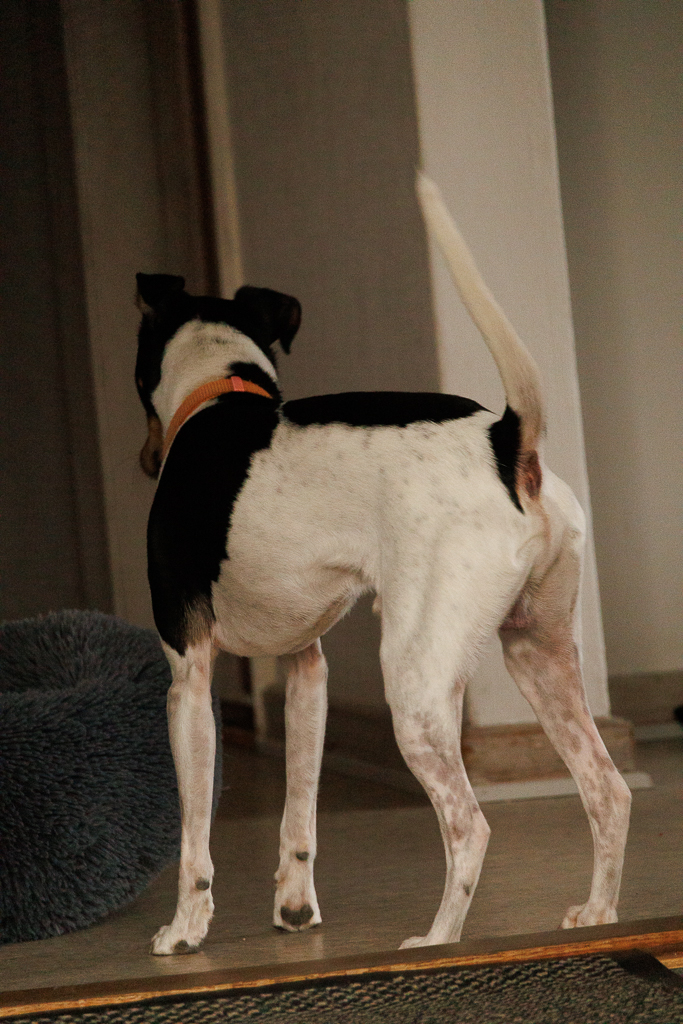Dog: (107, 159, 648, 963)
